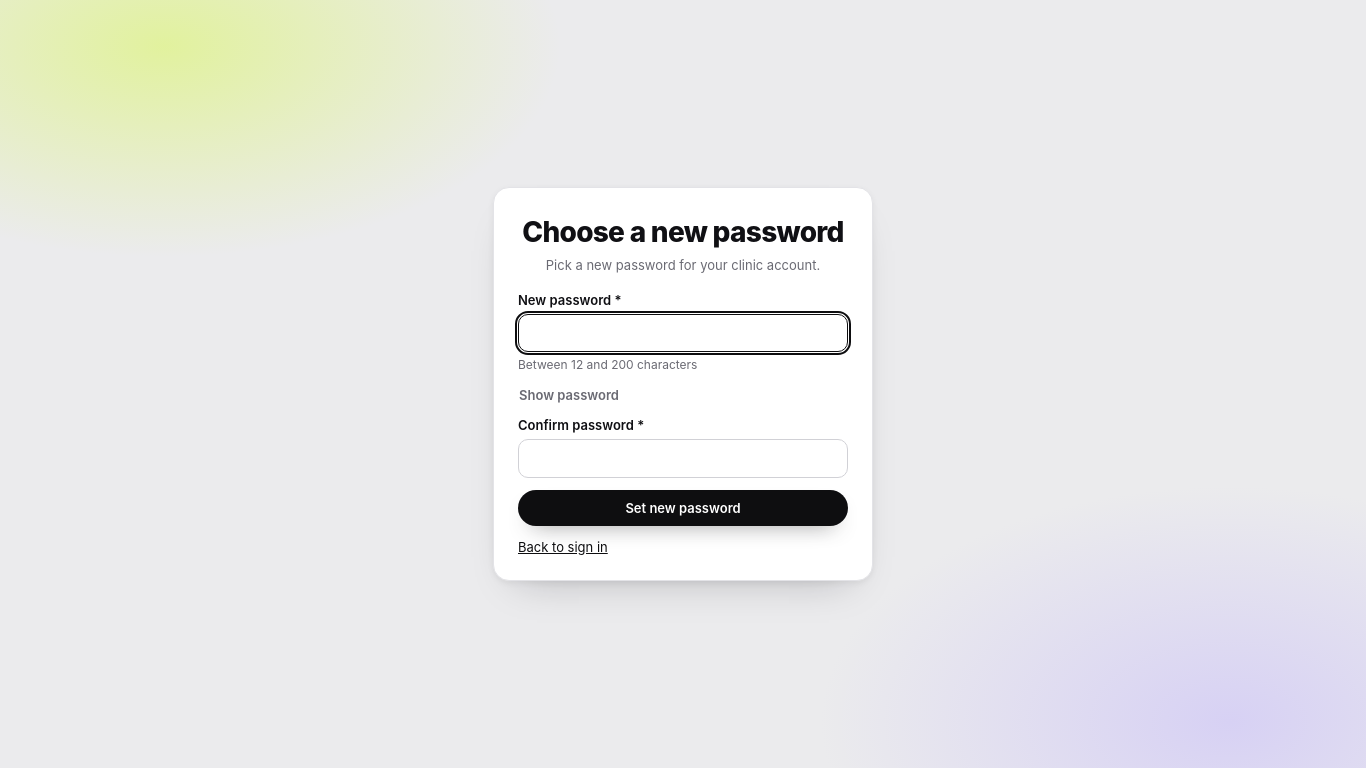
Test: ResetPasswordPage › shows the API error for an invalid or expired token
The width and height of the screenshot is (1366, 768).
Type "longenoughpass1" into the password field labelled "New password *" at x=683, y=333, box [518, 314, 848, 352]
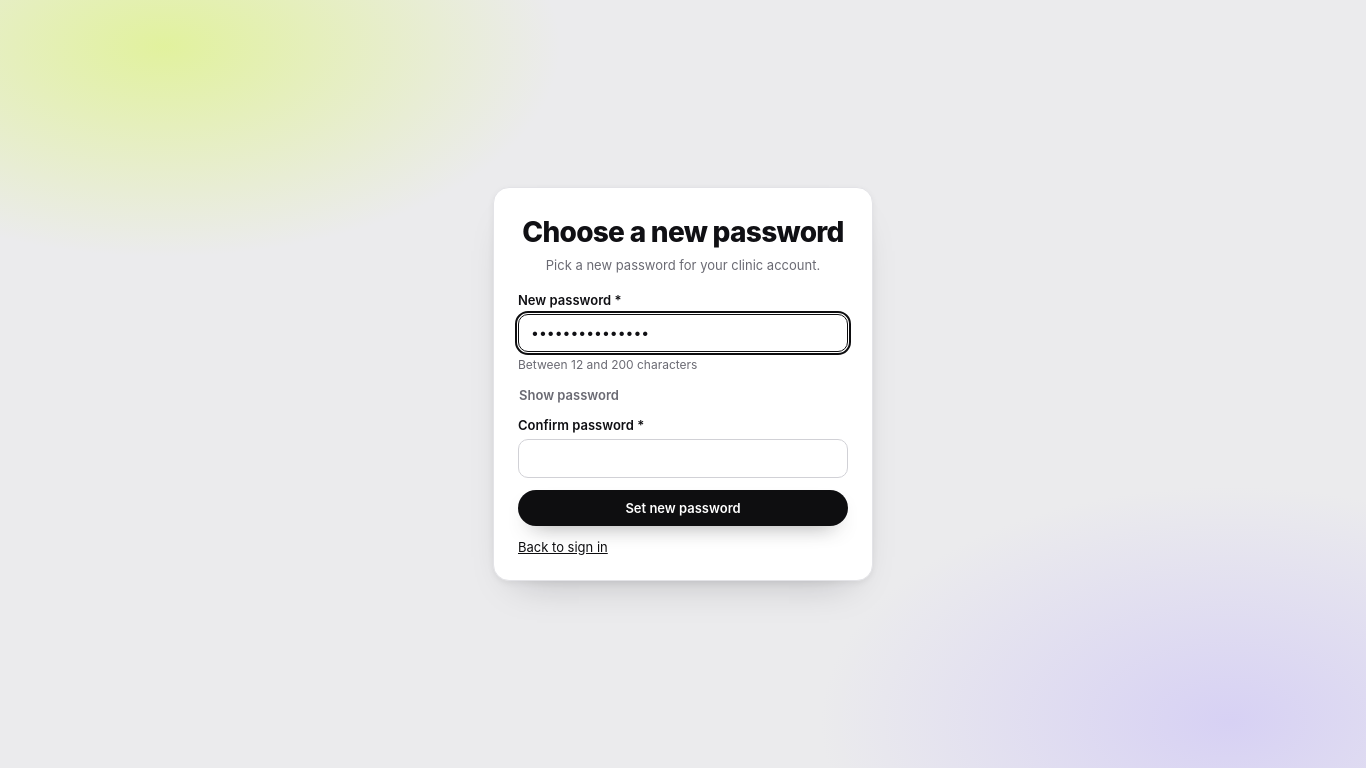
Type "longenoughpass1" into the password field labelled "Confirm password *" at x=683, y=458, box [518, 439, 848, 478]
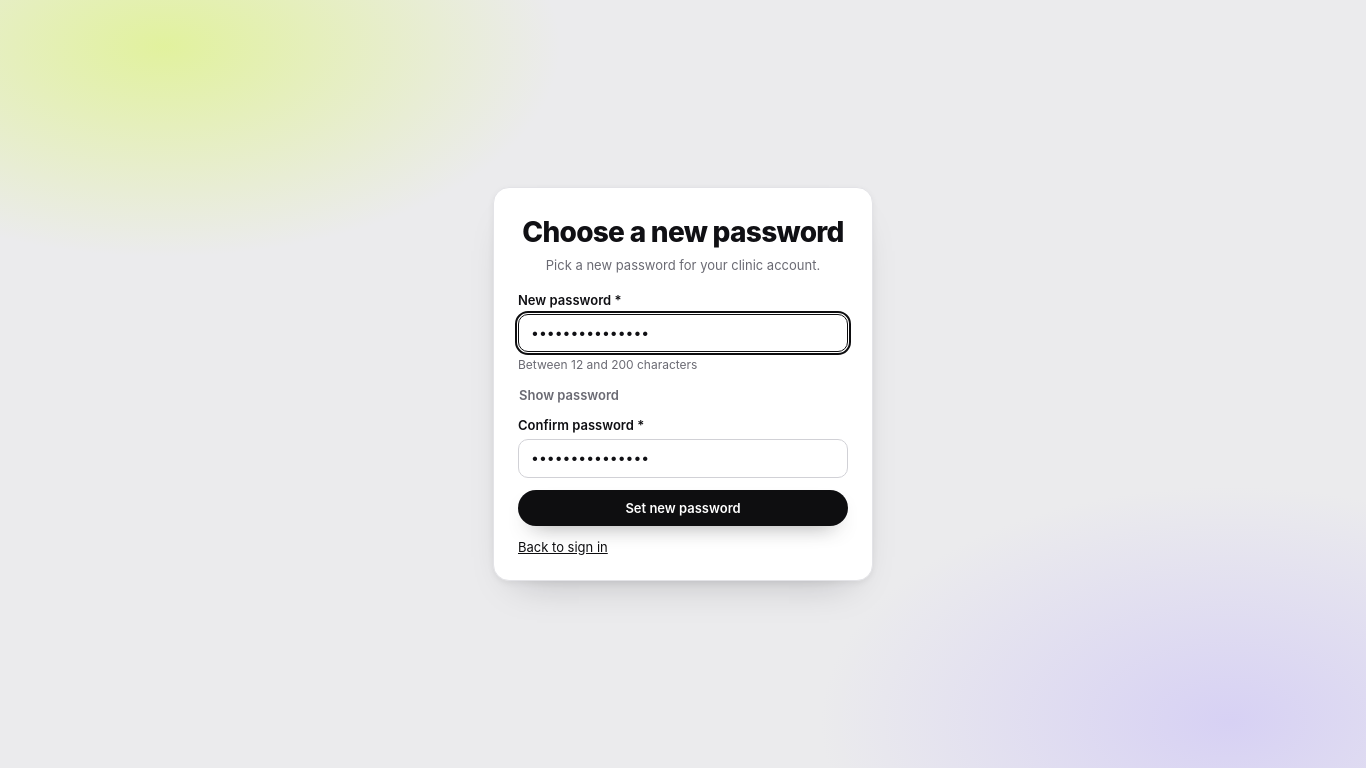
Click the button "Set new password" at x=683, y=508, box [518, 490, 848, 526]
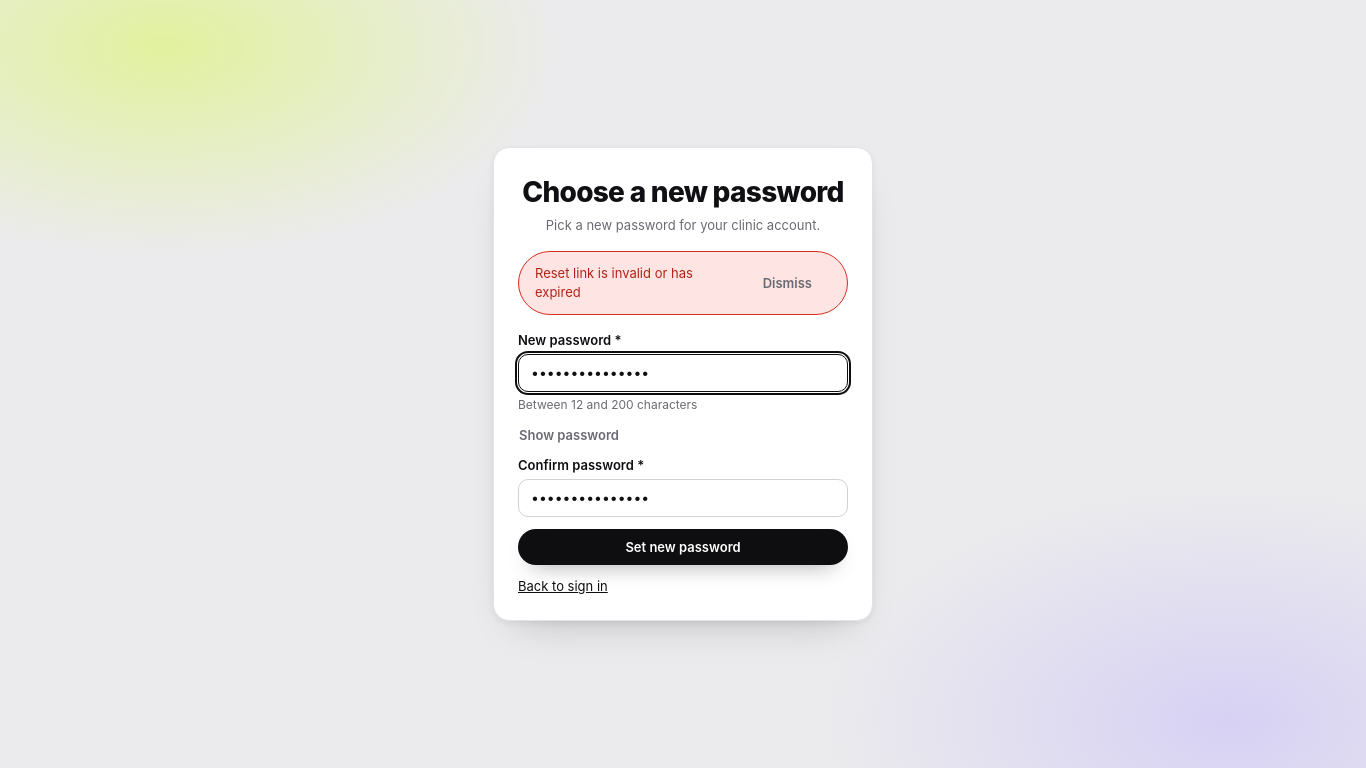
Check: the text "Reset link is invalid or has expired" is shown, box [535, 265, 693, 300]
